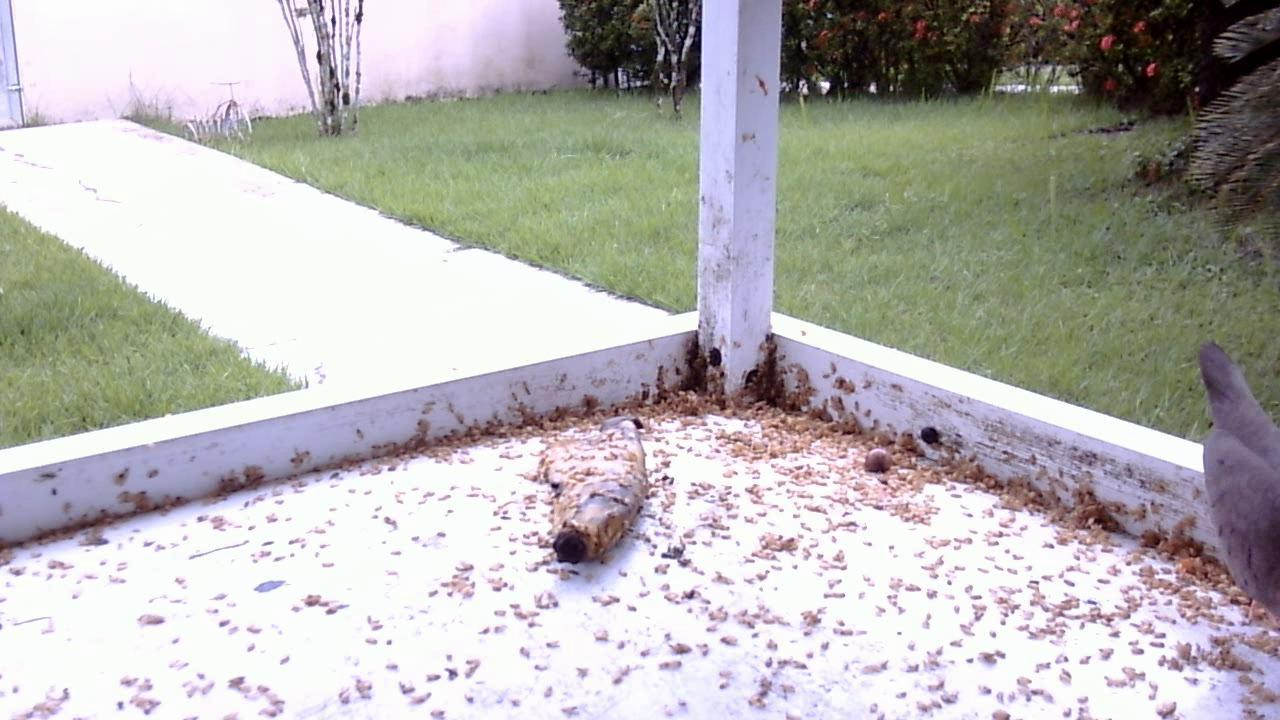rolinha: (1175, 337, 1280, 644)
